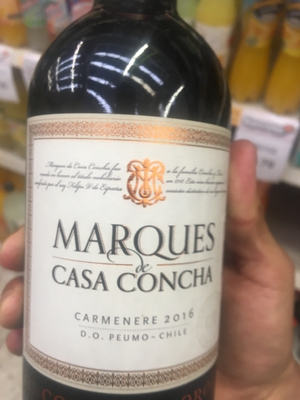marques de casa concha carmenere: (21, 10, 224, 400)
